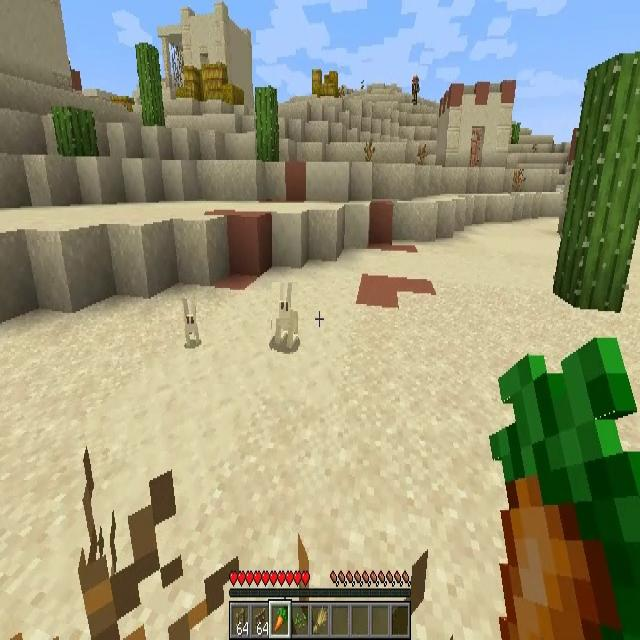rabbit: (272, 282, 298, 354), (180, 292, 200, 346)
